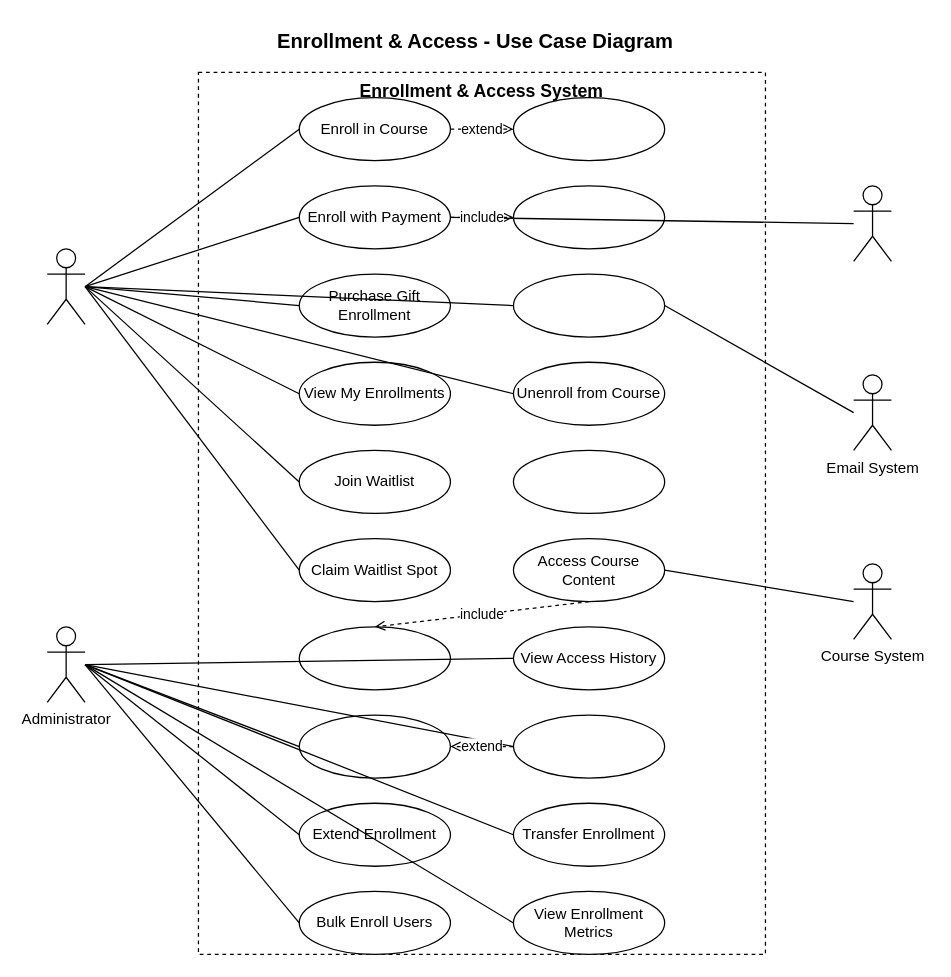
The diagram is 951 pixels wide and 977 high, and some of its shapes have lost their labels. The box of each missing label's shape, as (x1, y1, x2, y2) in pixels:
Apply Coupon Code: (512, 185, 665, 249)
Check Access Permission: (298, 626, 450, 690)
Enroll in Free Course: (512, 96, 665, 161)
Leave Waitlist: (512, 449, 665, 513)
Payment System: (852, 185, 891, 261)
Redeem Gift Enrollment: (512, 273, 665, 337)
Resume Enrollment: (512, 714, 665, 778)
Suspend Enrollment: (298, 714, 450, 778)
User: (46, 248, 85, 324)
